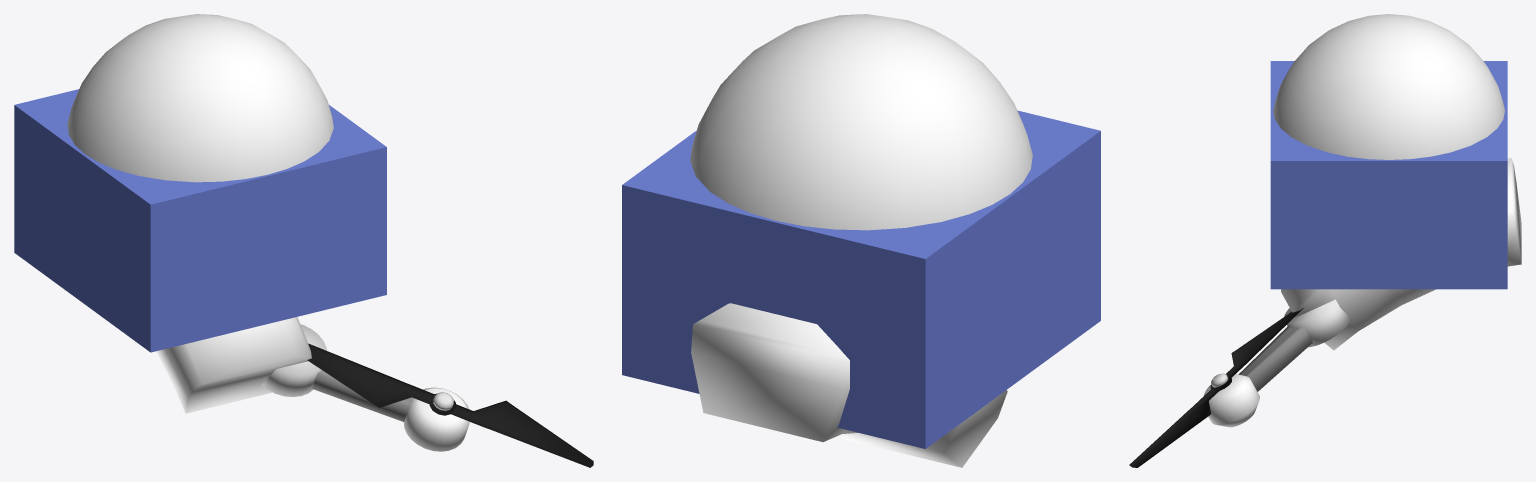
File: 083-drone.glb
3 views of the same model, side by side, from view 1: azimuth 30°, elevation 25°; view 2: azimuth 150°, elevation 25°; view 3: azimuth 270°, elevation 25° (orthographic). The views are drawn at different scales.
Parts seen in each view (by area): view 1: Plane.006, Roundcube.003, Plane, Circle.002, Circle.001, Cylinder.001, Cylinder, Circle; view 2: Plane.006, Roundcube.003, Plane; view 3: Plane.006, Roundcube.003, Plane, Circle, Cylinder.001, Cylinder, Circle.001, Circle.002.
Part boxes in pixels (<box>): Plane.006: <box>14,89,386,352</box>; Roundcube.003: <box>67,14,333,182</box>; Plane: <box>156,317,311,413</box>; Circle.002: <box>307,343,455,414</box>; Circle.001: <box>429,395,593,467</box>; Cylinder.001: <box>403,387,469,451</box>; Cylinder: <box>262,324,326,396</box>; Circle: <box>312,370,412,421</box>; Plane.006: <box>622,110,1100,448</box>; Roundcube.003: <box>690,14,1032,230</box>; Plane: <box>691,303,1007,467</box>; Plane.006: <box>1270,61,1507,289</box>; Roundcube.003: <box>1273,14,1504,159</box>; Plane: <box>1281,158,1521,350</box>; Circle: <box>1238,326,1312,391</box>; Cylinder.001: <box>1203,374,1259,427</box>; Cylinder: <box>1284,299,1350,347</box>; Circle.001: <box>1129,376,1231,467</box>; Circle.002: <box>1210,307,1303,390</box>.
Bounding box in the file's own units: 3.1 × 3.16 × 3.32.
